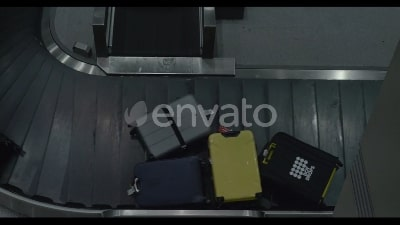baggage: (255, 127, 342, 207), (127, 98, 213, 154), (126, 157, 209, 212), (206, 128, 264, 205)
